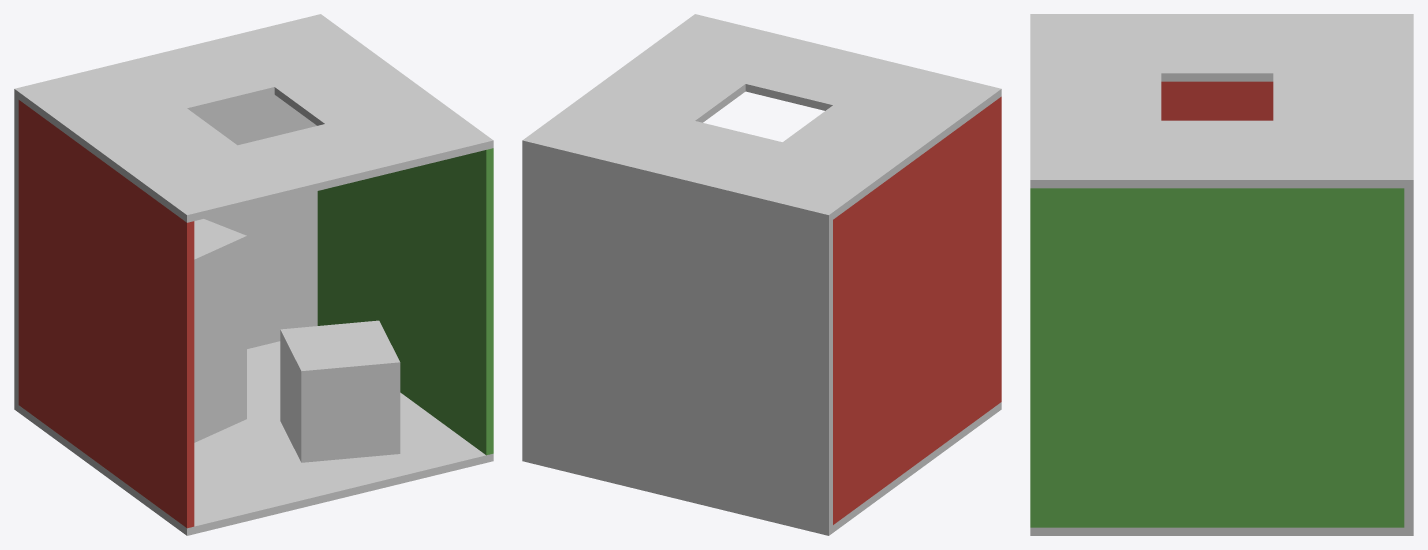
File: cornell_box.gltf
The picture shows the model from 3 angles, left to right: view 1: azimuth 30°, elevation 25°; view 2: azimuth 150°, elevation 25°; view 3: azimuth 270°, elevation 25°; orthographic projection. The views are drawn at different scales.
Visible parts, largest first — view 1: white, red, green; view 2: white, red; view 3: green, white, red.
Boxes of the visible parts, <box> form: white: <box>14,14,493,535</box>; red: <box>18,100,194,528</box>; green: <box>317,148,493,455</box>; white: <box>522,14,1001,535</box>; red: <box>833,96,1001,524</box>; green: <box>1030,188,1404,527</box>; white: <box>1030,14,1413,535</box>; red: <box>1161,81,1273,120</box>.
Size of the model in its own units: 4.2 by 4.2 by 4.1.
